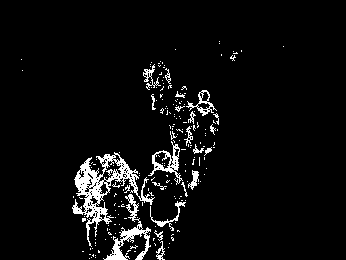person: (145, 151, 185, 259), (188, 88, 217, 191), (167, 85, 191, 168), (144, 56, 171, 117)
